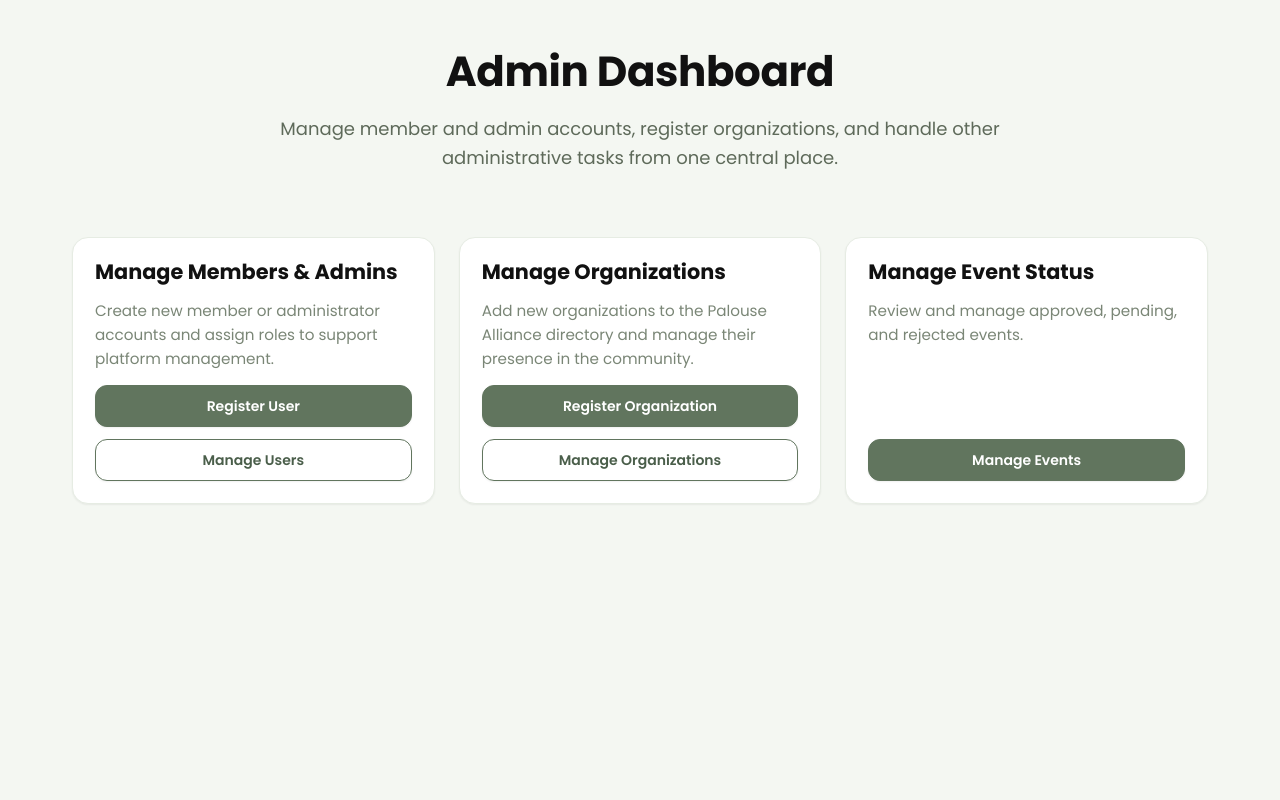
Admin › opens manage users popup when the button is clicked
Click the button "Manage Users": (253, 460) [95,440,412,482]
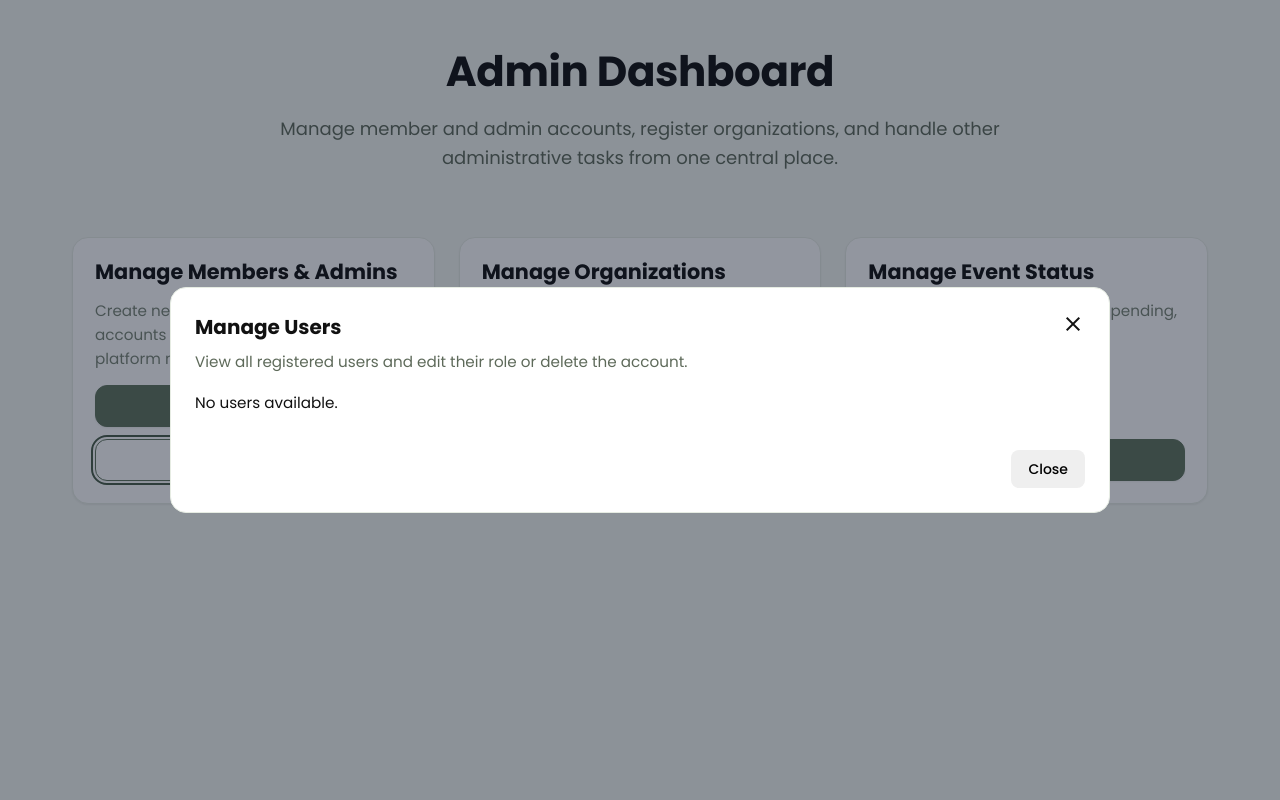
Result: the heading "Manage Users" is shown at [195,313,342,341]
